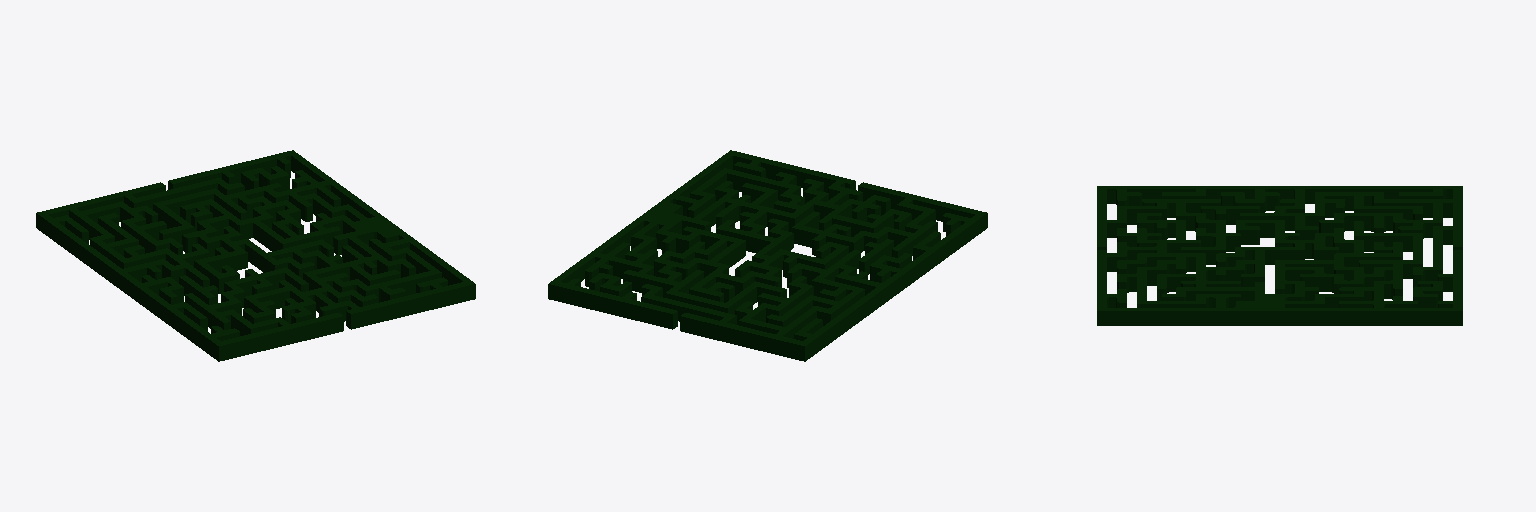
Rendered from maze2.obj.
3 renders of one model, left to right at view 1: azimuth 30°, elevation 25°; view 2: azimuth 150°, elevation 25°; view 3: azimuth 270°, elevation 25°, orthographic.
Parts seen in each view (by area): view 1: LABYRINTH; view 2: LABYRINTH; view 3: LABYRINTH.
Boxes of the visible parts, x1=… form: LABYRINTH: x1=36, y1=150, x2=475, y2=361; LABYRINTH: x1=548, y1=150, x2=987, y2=361; LABYRINTH: x1=1097, y1=186, x2=1462, y2=325.
Bounding box in the file's own units: 49.74 × 2.84 × 61.25.